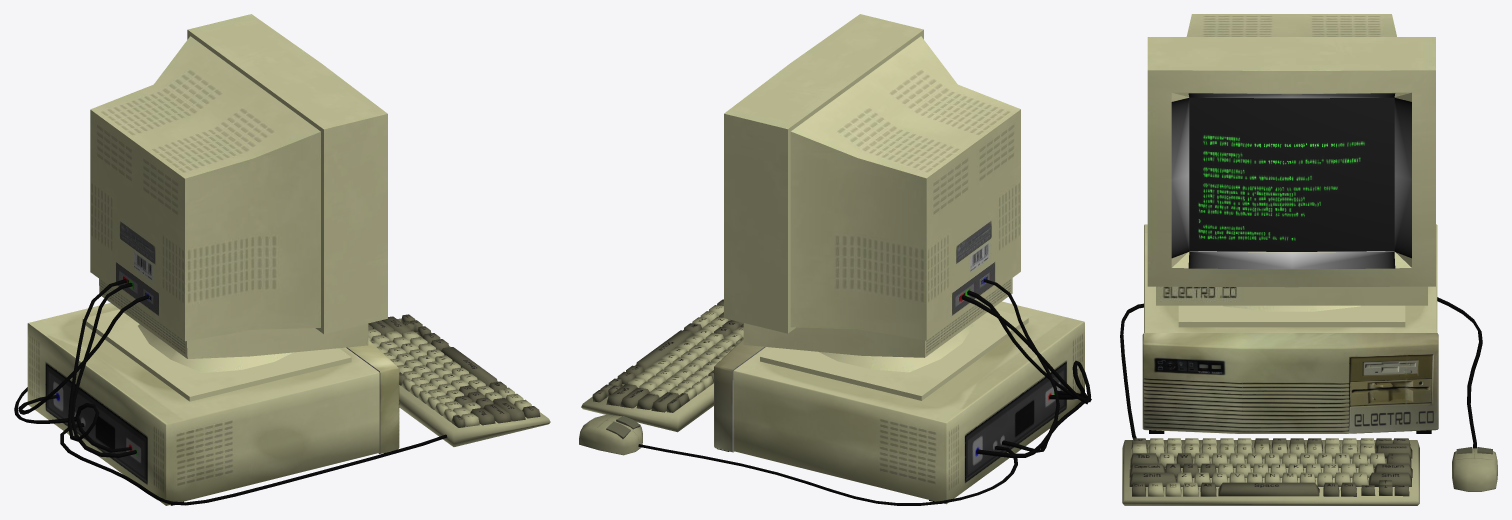
The model's file is retro_crt.glb.
3 renders of one model, left to right at view 1: azimuth 30°, elevation 25°; view 2: azimuth 150°, elevation 25°; view 3: azimuth 270°, elevation 25°, orthographic. The views are drawn at different scales.
Parts seen in each view (by area): view 1: Monitor_002.007_1, PC_004.007_4, KeyBoard_002.005_0, PC_004.005_10, NurbsPath.020_8, NurbsPath.014_6, NurbsPath.021_9; view 2: Monitor_002.007_1, PC_004.007_4, KeyBoard_002.005_0, PC_004.005_10, Mouse_001.005_3, NurbsPath.020_8, NurbsPath.016_7, NurbsPath.021_9; view 3: Monitor_002.007_1, PC_004.005_10, KeyBoard_002.005_0, Additional_Reflection, PC_004.007_4, Mouse_001.005_3, NurbsPath.016_7, NurbsPath.014_6.
Boxes of the visible parts, box(x1,y1,x2,y2) form: Monitor_002.007_1: box(82, 14, 387, 401); PC_004.007_4: box(27, 303, 385, 505); KeyBoard_002.005_0: box(368, 314, 550, 446); PC_004.005_10: box(346, 340, 399, 453); NurbsPath.020_8: box(67, 279, 136, 457); NurbsPath.014_6: box(60, 423, 447, 505); NurbsPath.021_9: box(18, 295, 148, 414); Monitor_002.007_1: box(724, 14, 1028, 400); PC_004.007_4: box(717, 301, 1084, 504); KeyBoard_002.005_0: box(581, 299, 743, 432); PC_004.005_10: box(714, 339, 765, 452); Mouse_001.005_3: box(579, 414, 642, 455); NurbsPath.020_8: box(961, 290, 1091, 404); NurbsPath.016_7: box(638, 444, 1017, 505); NurbsPath.021_9: box(976, 279, 1059, 458); Monitor_002.007_1: box(1147, 14, 1435, 327); PC_004.005_10: box(1142, 333, 1438, 433); KeyBoard_002.005_0: box(1122, 438, 1419, 505); Additional_Reflection: box(1171, 93, 1411, 269); PC_004.007_4: box(1144, 224, 1437, 433); Mouse_001.005_3: box(1452, 447, 1497, 491); NurbsPath.016_7: box(1437, 297, 1482, 448); NurbsPath.014_6: box(1120, 303, 1143, 438).
Size of the model in its own units: 0.7459 by 0.5673 by 0.5409.
Materials: 8 (6 with a texture image).
